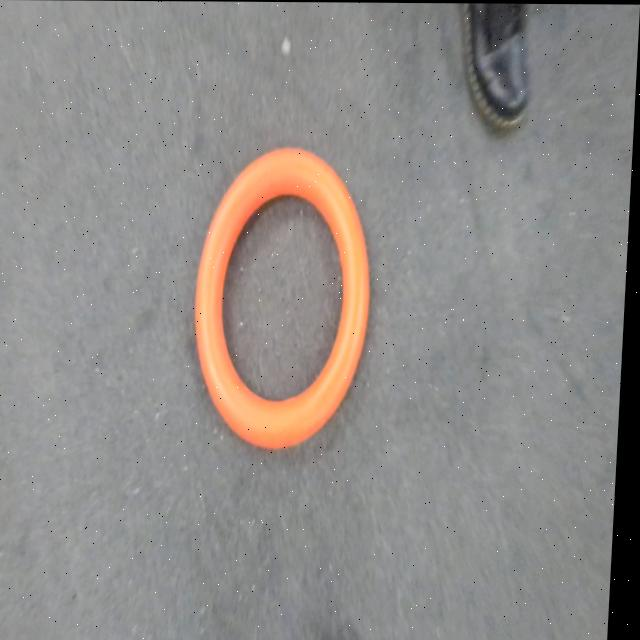note: (188, 152, 380, 447)
